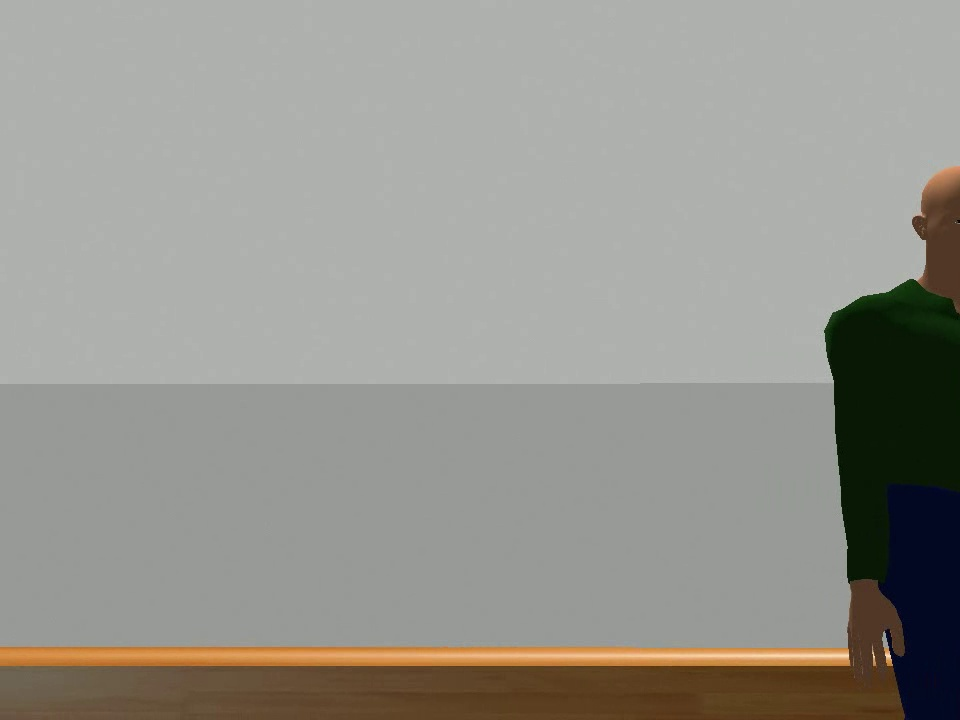person: (820, 164, 960, 720)
